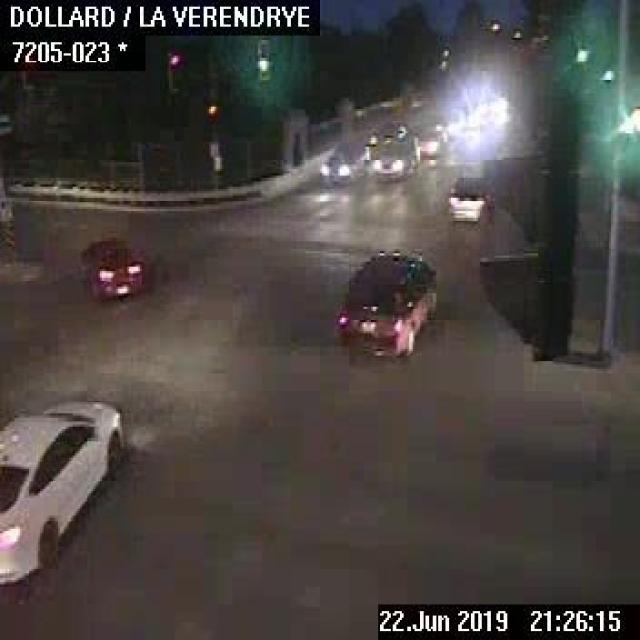vehicle: (0, 393, 125, 586), (331, 244, 439, 358), (79, 233, 149, 305), (368, 129, 418, 180), (443, 171, 492, 222), (316, 140, 357, 187)
